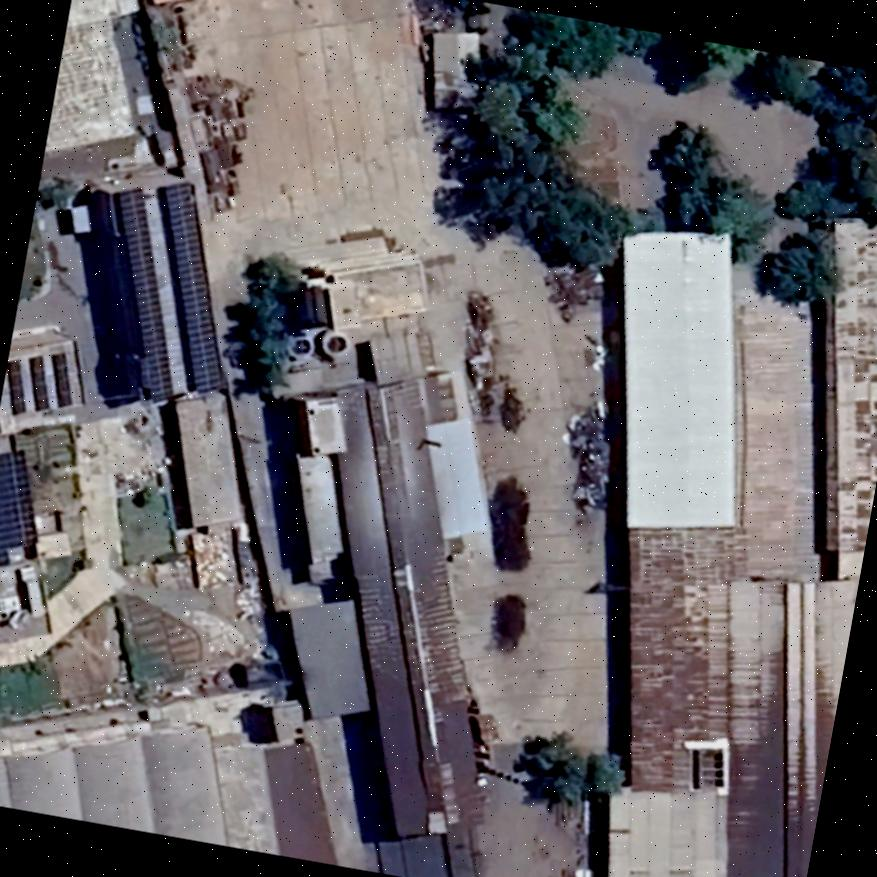Solarpanel: (155, 177, 232, 399), (108, 181, 178, 411), (0, 449, 37, 553), (48, 347, 72, 410), (28, 353, 49, 413), (7, 354, 25, 414)
